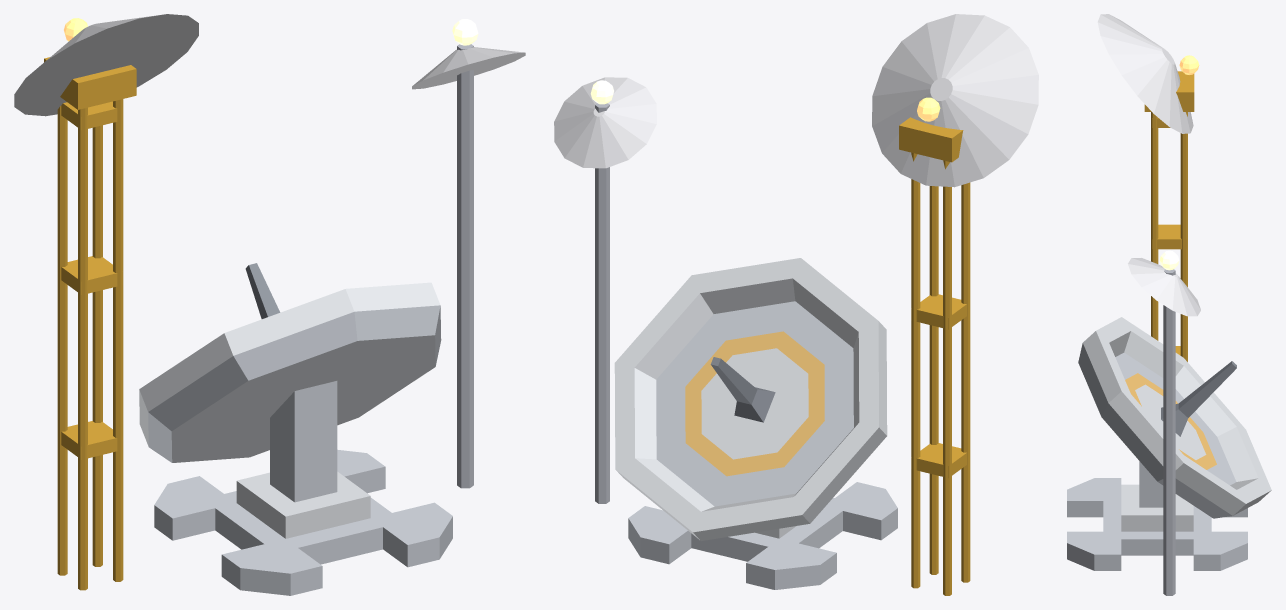
The model's file is decoracao-antena-n3.glb.
3 renders of one model, left to right at view 1: azimuth 30°, elevation 25°; view 2: azimuth 150°, elevation 25°; view 3: azimuth 270°, elevation 25°, orthographic. The views are drawn at different scales.
Parts seen in each view (by area): view 1: satelliteDish, Cone.001, Cylinder, Cylinder.003, Cylinder.002, Cylinder.001, Cylinder.004, Cube.003, Cone, Cube, Cube.001, Cube.002; view 2: satelliteDish, Cone.001, Cone, Cylinder, Cylinder.004, Cylinder.001, Cylinder.002, Cylinder.003, Cube.003, Cube.001, Cube; view 3: satelliteDish, Cone.001, Cylinder, Cone, Cylinder.004, Cylinder.003, Cube.003, Cube.001, Sphere, Sphere.001.
Part boxes in pixels (x1,y1,x2,y2): satelliteDish: (139,263,452,595); Cone.001: (14,14,198,116); Cylinder: (457,44,473,488); Cylinder.003: (113,99,123,581); Cylinder.002: (57,106,67,575); Cylinder.001: (78,107,87,590); Cylinder.004: (92,125,102,566); Cube.003: (44,57,136,109); Cone: (412,47,525,89); Cube: (61,421,122,459); Cube.001: (61,256,122,294); Cube.002: (61,101,122,129); satelliteDish: (614,258,897,589); Cone.001: (872,14,1038,187); Cone: (554,77,656,168); Cylinder: (595,103,609,503); Cylinder.004: (911,152,920,588); Cylinder.001: (961,182,970,582); Cylinder.002: (943,160,951,595); Cylinder.003: (929,186,938,574); Cube.003: (899,117,963,162); Cube.001: (911,294,966,329); Cube: (911,443,966,477); satelliteDish: (1067,317,1271,570); Cone.001: (1097,14,1193,133); Cylinder: (1163,269,1175,595); Cone: (1128,258,1200,316); Cylinder.004: (1180,112,1187,361); Cylinder.003: (1151,112,1158,340); Cube.003: (1144,71,1194,111); Cube.001: (1152,224,1186,249); Sphere: (1159,250,1179,270); Sphere.001: (1179,55,1199,74).
Size of the model in its own units: 1.21 by 1.33 by 0.5665.
